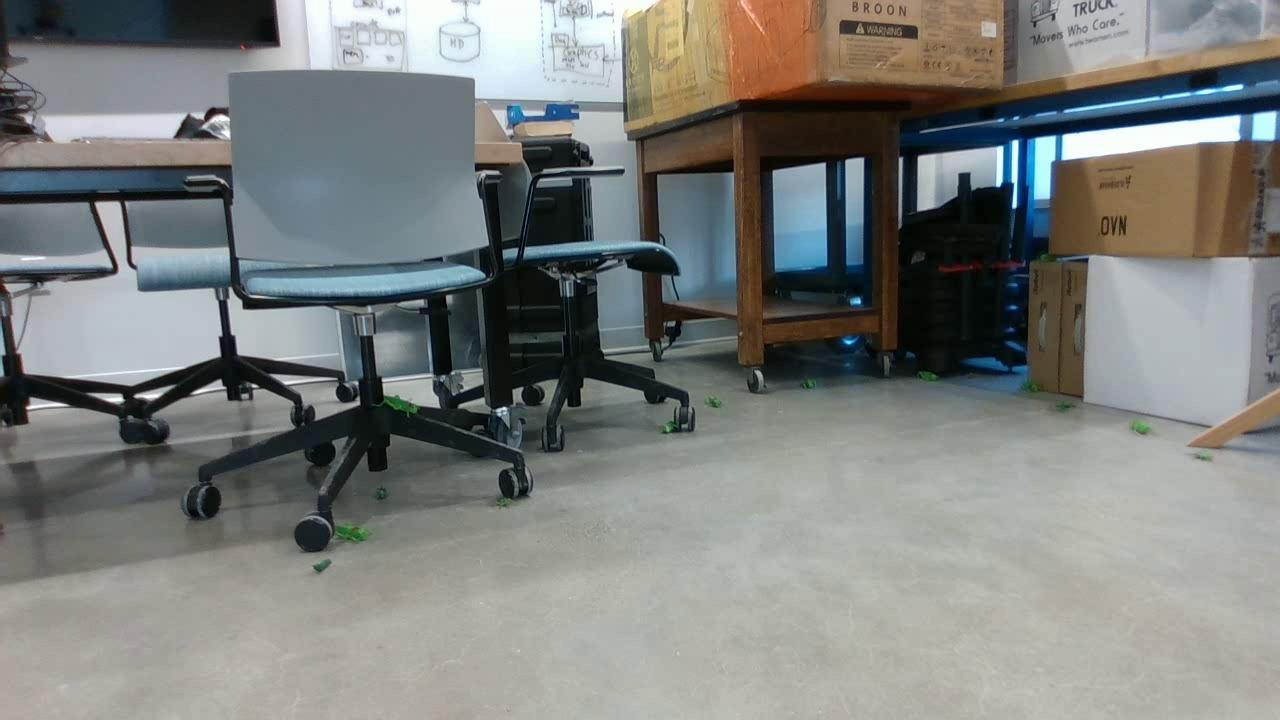grasshopper: (373, 388, 420, 417), (328, 517, 375, 545), (654, 415, 682, 434), (796, 371, 824, 388), (703, 391, 726, 411), (910, 367, 938, 383), (1016, 376, 1038, 396), (1121, 433, 1156, 440)
